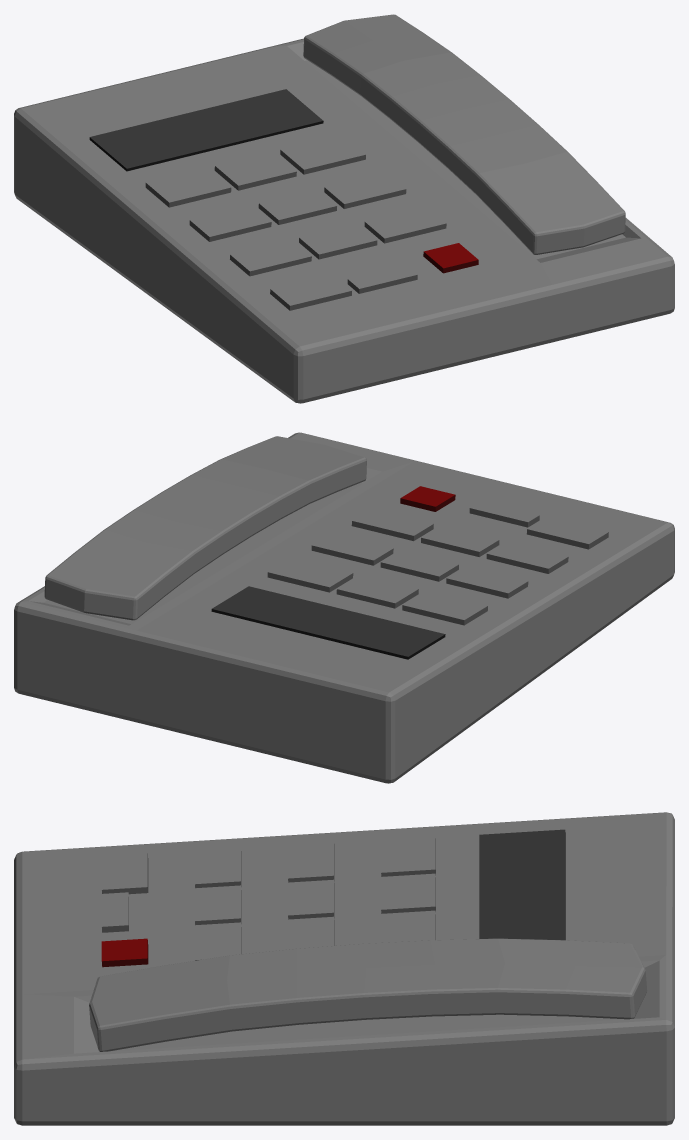
The model's file is Phone.fbx.
3 views of the same model, one above another, from view 1: azimuth 30°, elevation 25°; view 2: azimuth 150°, elevation 25°; view 3: azimuth 270°, elevation 25° (orthographic). The views are drawn at different scales.
Parts seen in each view (by area): view 1: Prop_Telephone; view 2: Prop_Telephone; view 3: Prop_Telephone.
Boxes of the visible parts, <box> form: Prop_Telephone: <box>14,14,674,403</box>; Prop_Telephone: <box>14,432,674,783</box>; Prop_Telephone: <box>14,812,674,1125</box>.
Size of the model in its own units: 25.05 by 7.14 by 32.6.
1 material, 1 textured.
